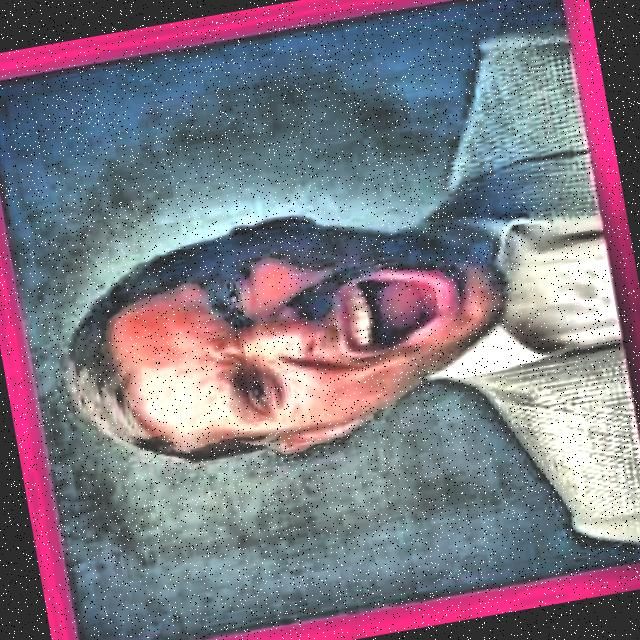angry: (32, 170, 531, 497)
